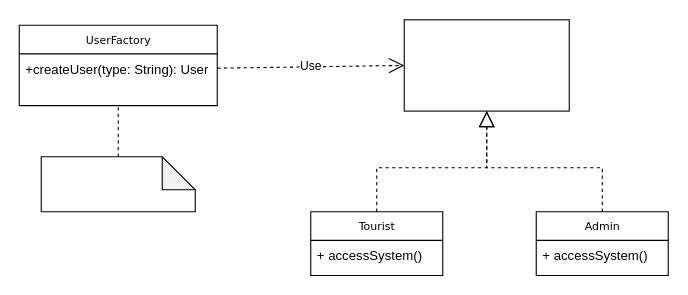
The diagram is 688 pixels wide and 295 high, and some of its shapes have lost their labels. Each missing label, with the box of its shape:
<<Interface>> User +accessSystem(): void: (403, 19, 569, 111)
retrun new Tourist() return new Admin(): (40, 156, 195, 212)
